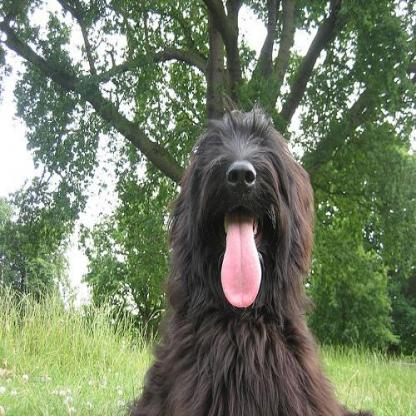briard: (125, 96, 364, 414)
